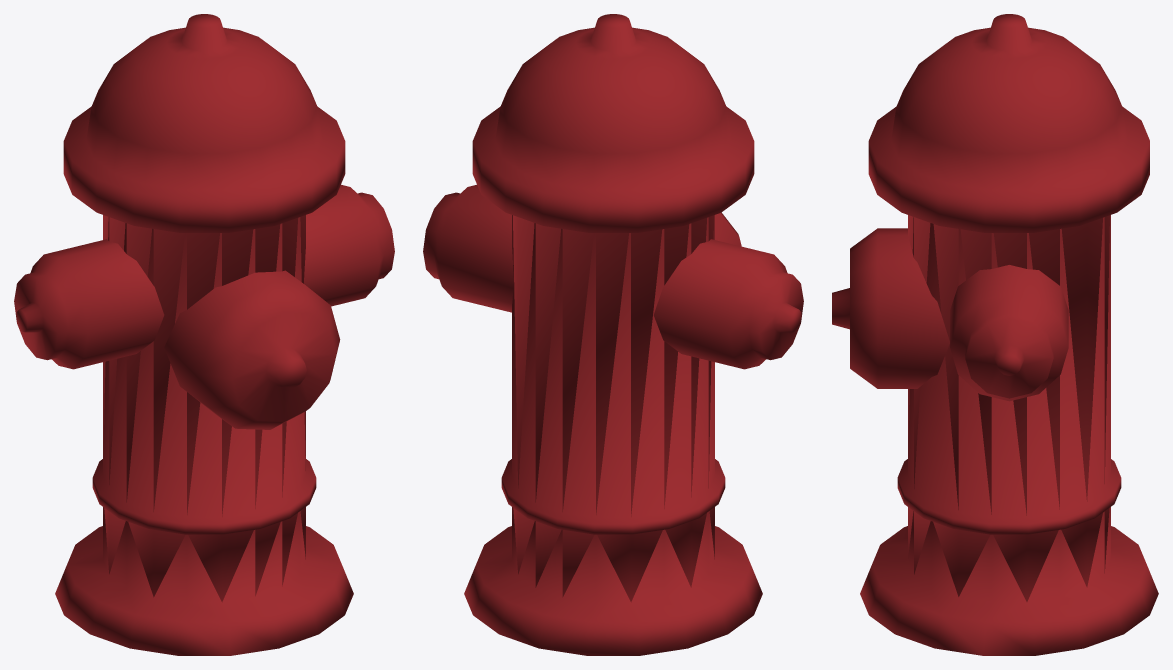
The model's file is fire-hydrant.glb.
The picture shows the model from 3 angles, left to right: view 1: azimuth 30°, elevation 25°; view 2: azimuth 150°, elevation 25°; view 3: azimuth 270°, elevation 25°; orthographic projection.
Visible parts, largest first — view 1: fire-hydrant; view 2: fire-hydrant; view 3: fire-hydrant.
Part boxes in pixels (x1,y1,x2,y2): fire-hydrant: (14,14,394,655); fire-hydrant: (423,14,803,655); fire-hydrant: (832,14,1158,655).
Size of the model in its own units: 0.5335 by 0.8 by 0.4134.
